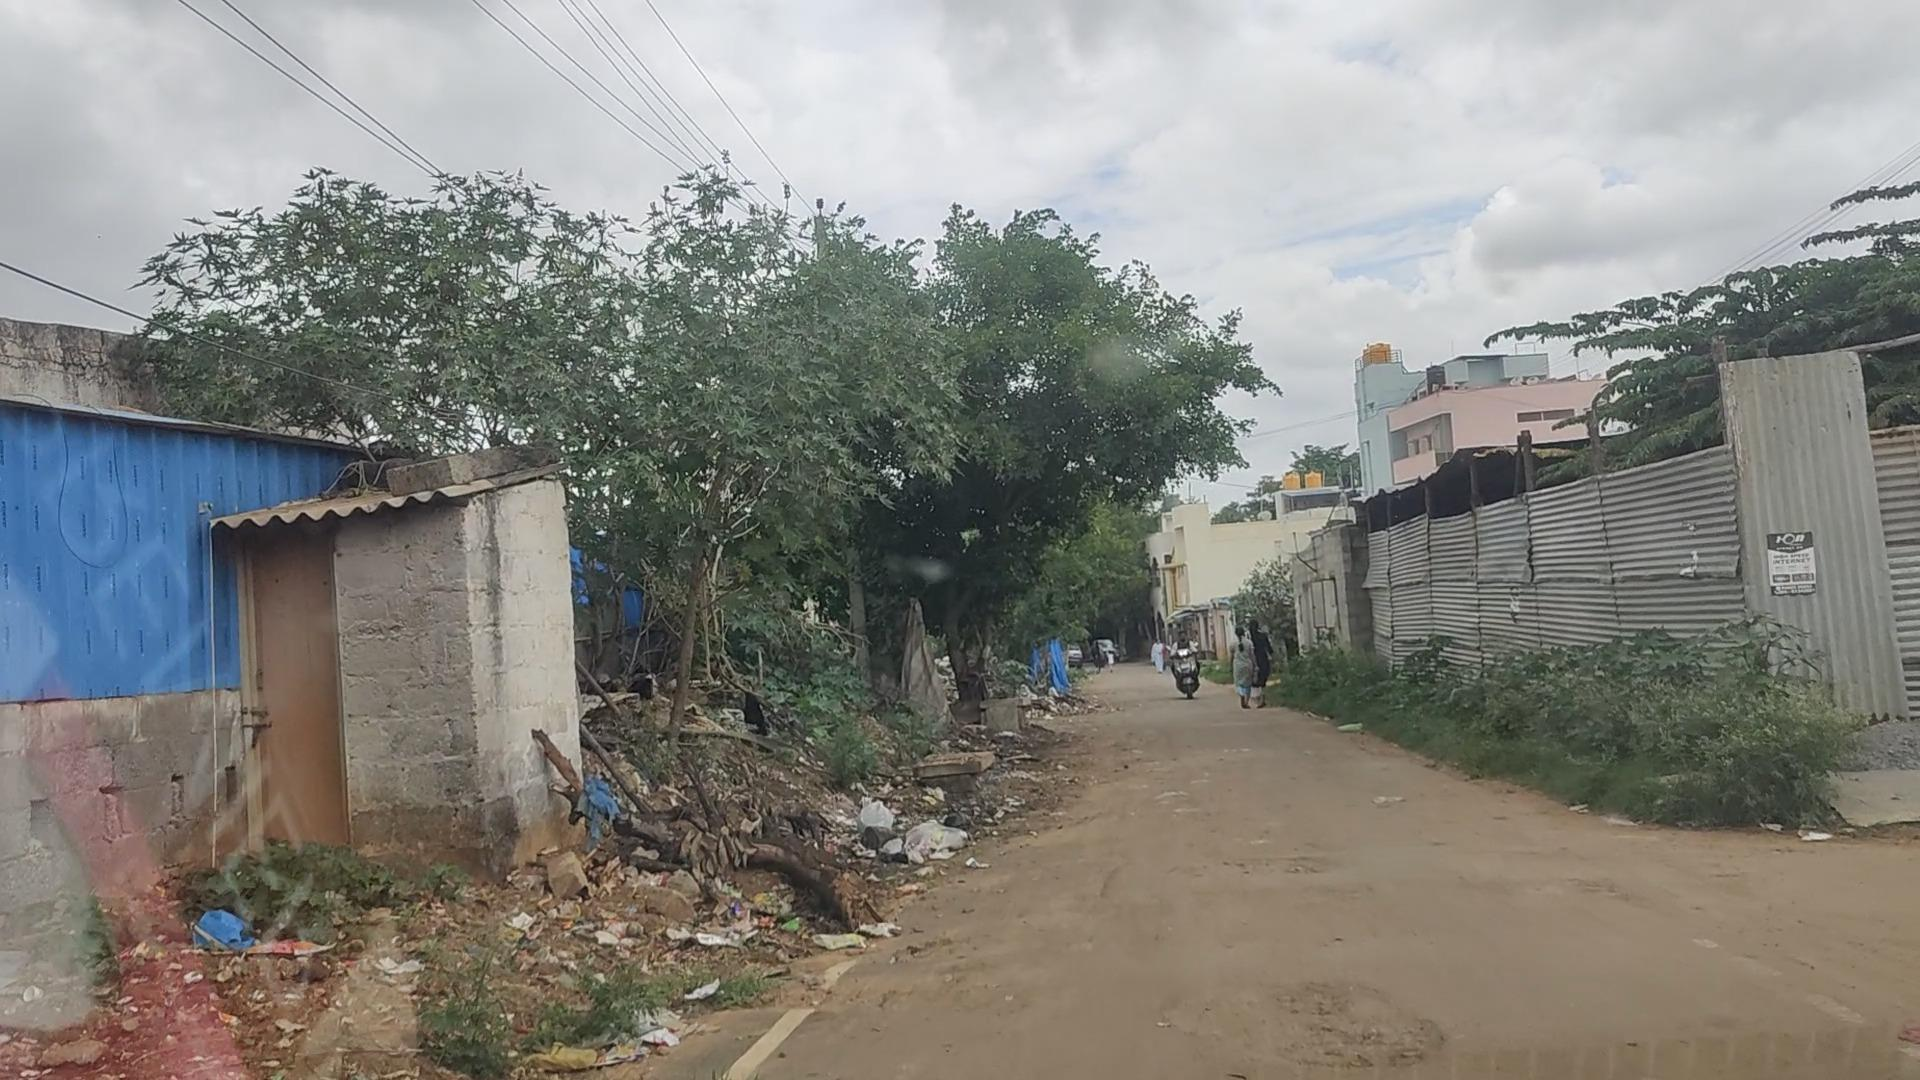RoadDamages: (1171, 963, 1433, 1080)
